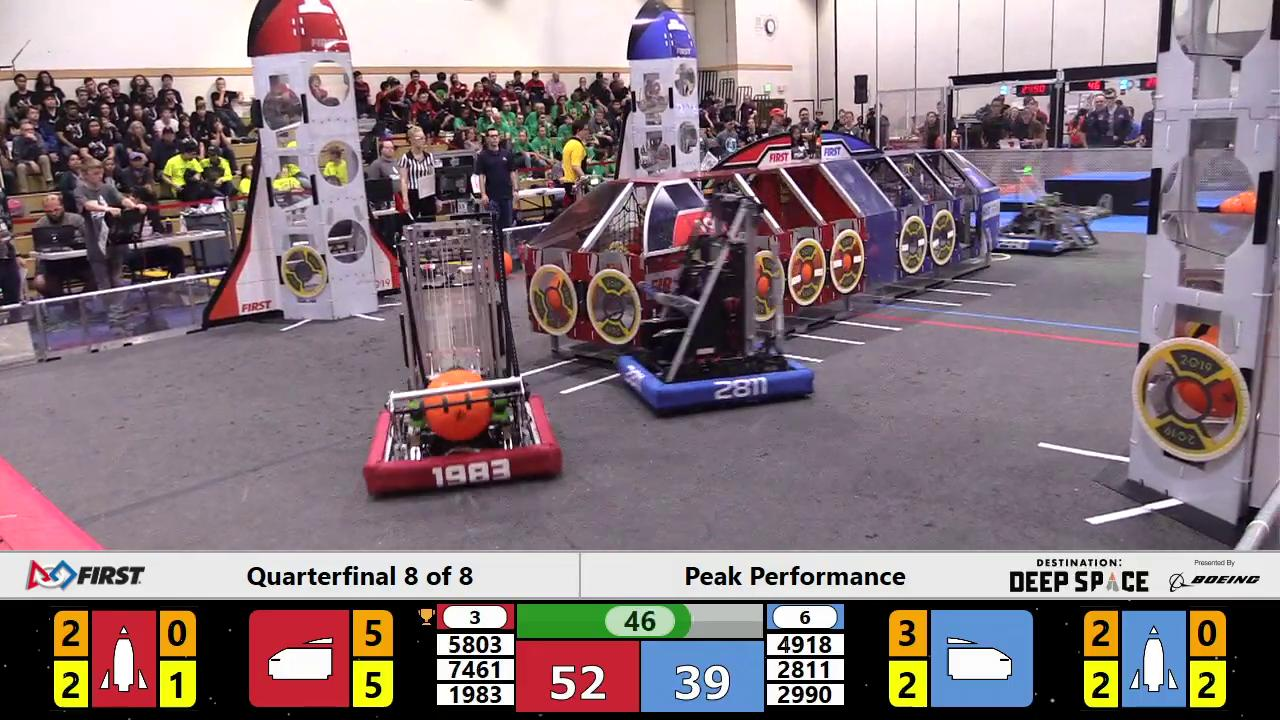robot: (363, 220, 562, 500), (619, 192, 815, 415), (996, 199, 1079, 255)
